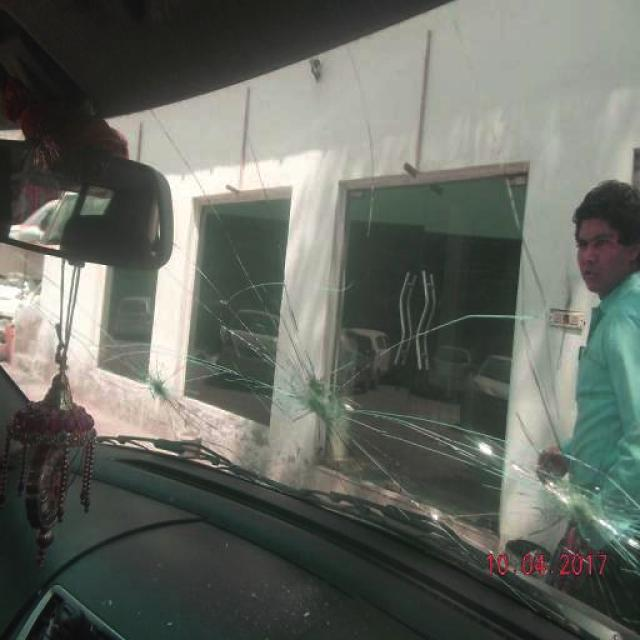car damage: (458, 428, 638, 566), (255, 333, 379, 456), (136, 355, 187, 417)
